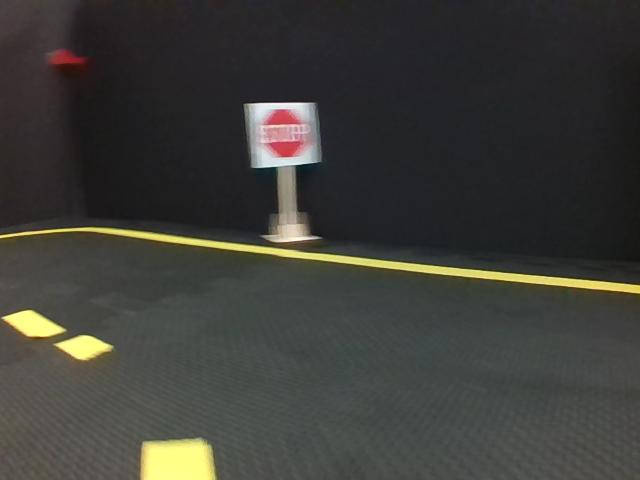stop: (246, 104, 318, 162)
